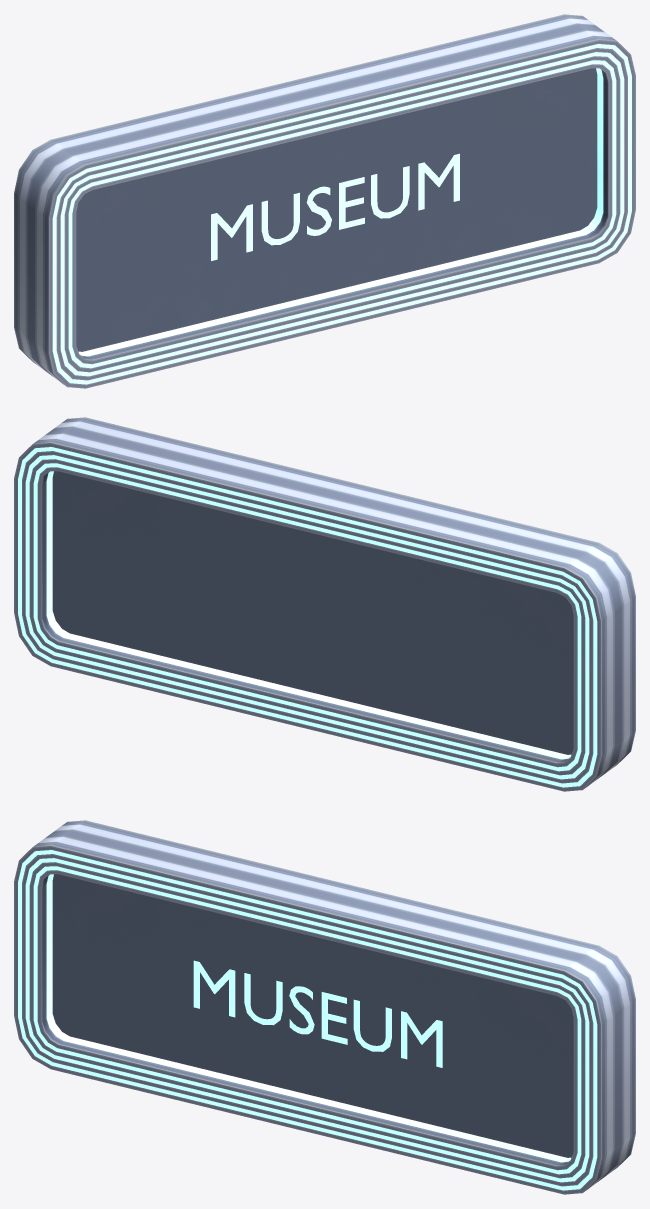
The model's file is obj_sign12.gltf.
3 renders of one model, top to bottom at view 1: azimuth 30°, elevation 25°; view 2: azimuth 150°, elevation 25°; view 3: azimuth 330°, elevation 25°, orthographic.
Visible parts, largest first — view 1: obj_sign12; view 2: obj_sign12; view 3: obj_sign12.
Boxes of the visible parts, x1=… form: obj_sign12: x1=14, y1=14, x2=635, y2=388; obj_sign12: x1=14, y1=417, x2=635, y2=791; obj_sign12: x1=14, y1=820, x2=635, y2=1194.
Size of what is drawn, in the model's own units: 4.27 by 1.55 by 0.439.
Materials: 2 (1 with a texture image).
